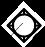ress_can_light: (1, 1, 45, 47)
